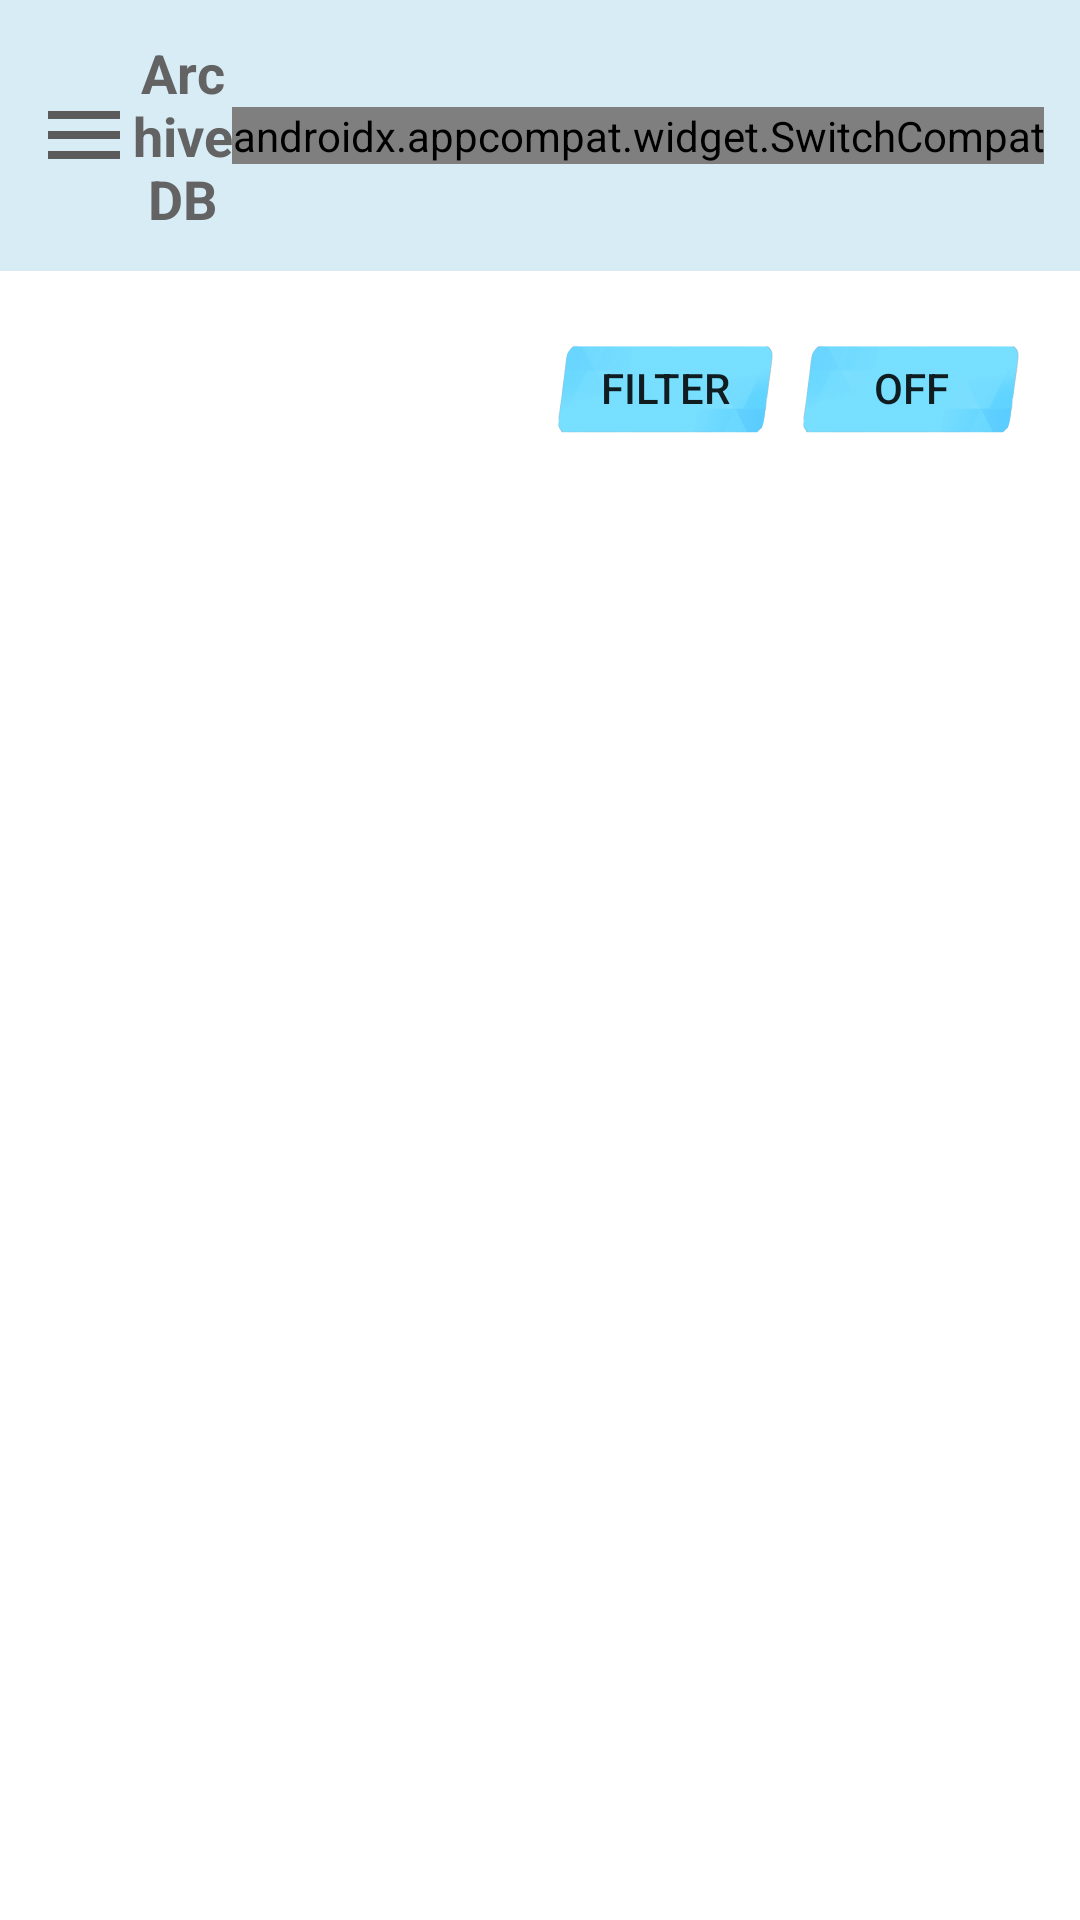

Icon bounding boxes for this 1080*1920 phone screenshot, format rect(x1, y1, x2, y2):
menu: rect(48, 111, 120, 159)
